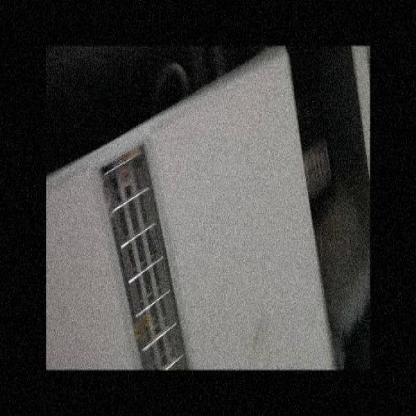light_off: (89, 126, 199, 370)
